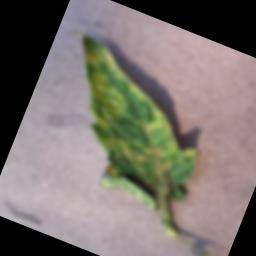Leaf_Mold: (30, 33, 226, 216)
